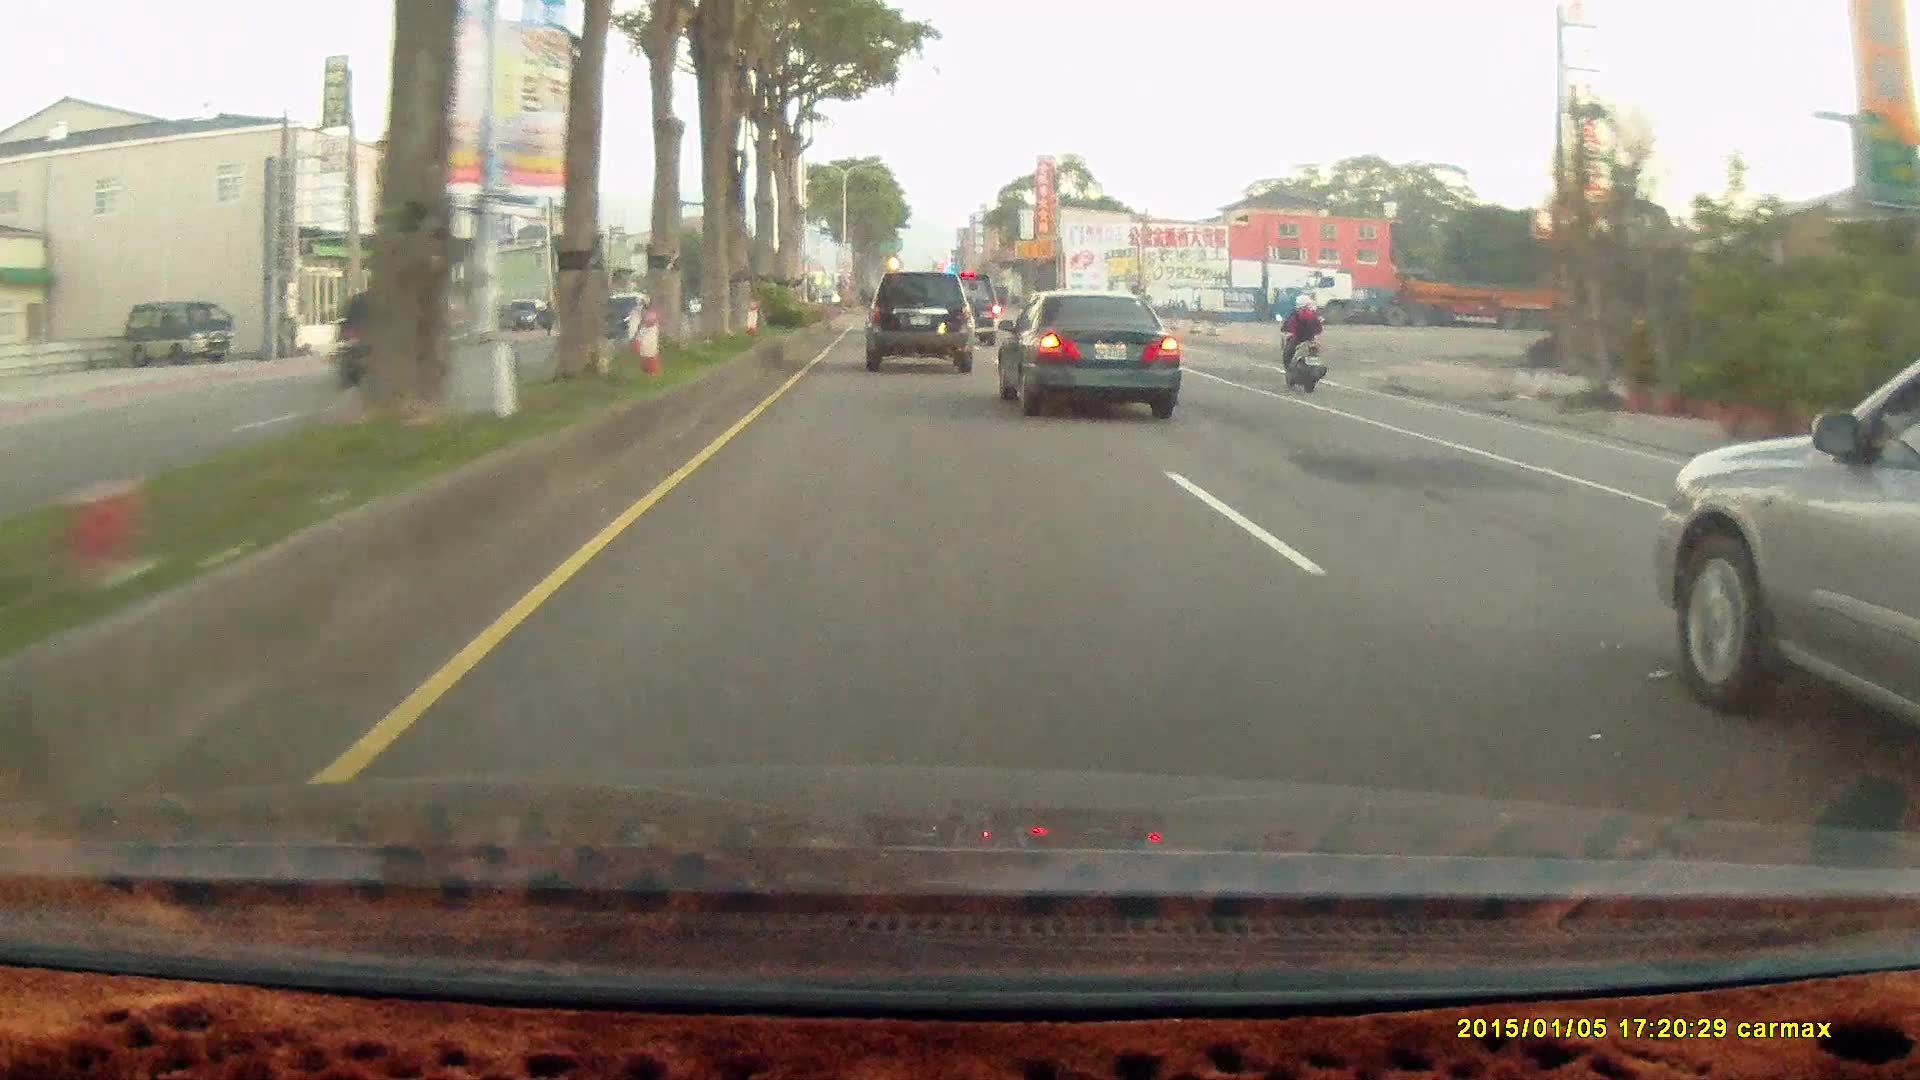rider: (1269, 286, 1336, 400), (1275, 286, 1327, 388)
vehicle: (1666, 352, 1919, 767), (994, 291, 1185, 418), (997, 287, 1181, 415), (1308, 267, 1569, 329), (332, 285, 467, 391), (331, 284, 465, 389), (865, 271, 977, 374), (863, 270, 976, 371), (124, 303, 236, 370), (123, 301, 235, 367), (930, 272, 1002, 347), (592, 290, 661, 341), (501, 297, 551, 331)
